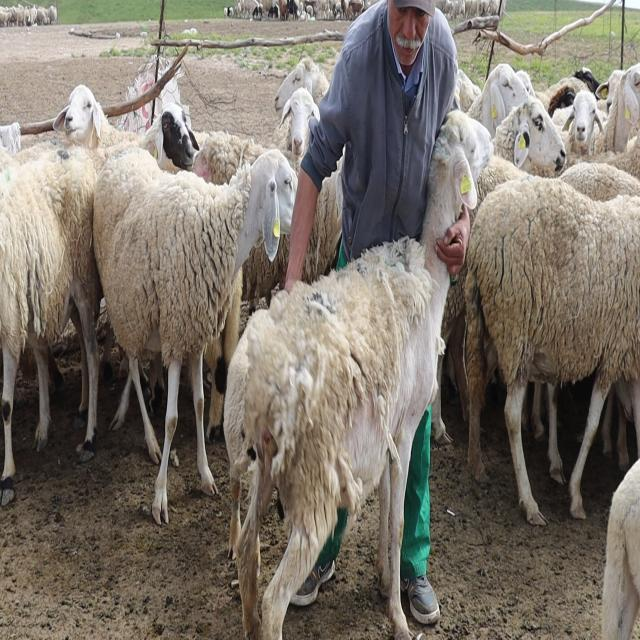Score_2: (236, 110, 493, 639)
